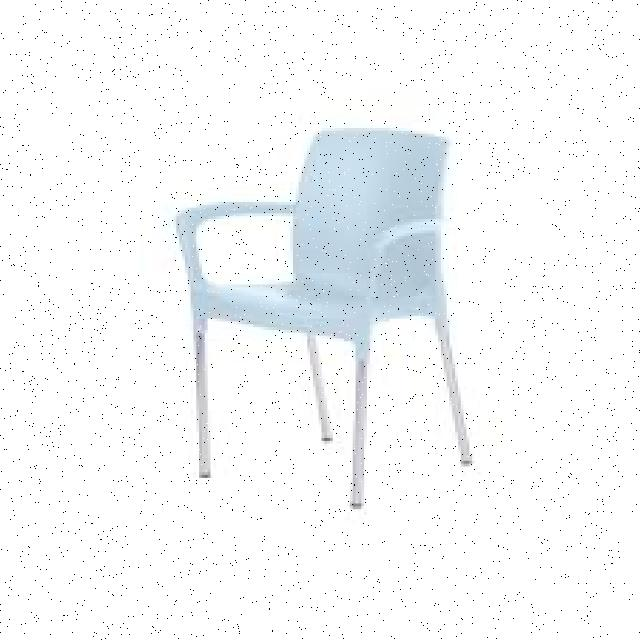bottle: (171, 130, 473, 515)
